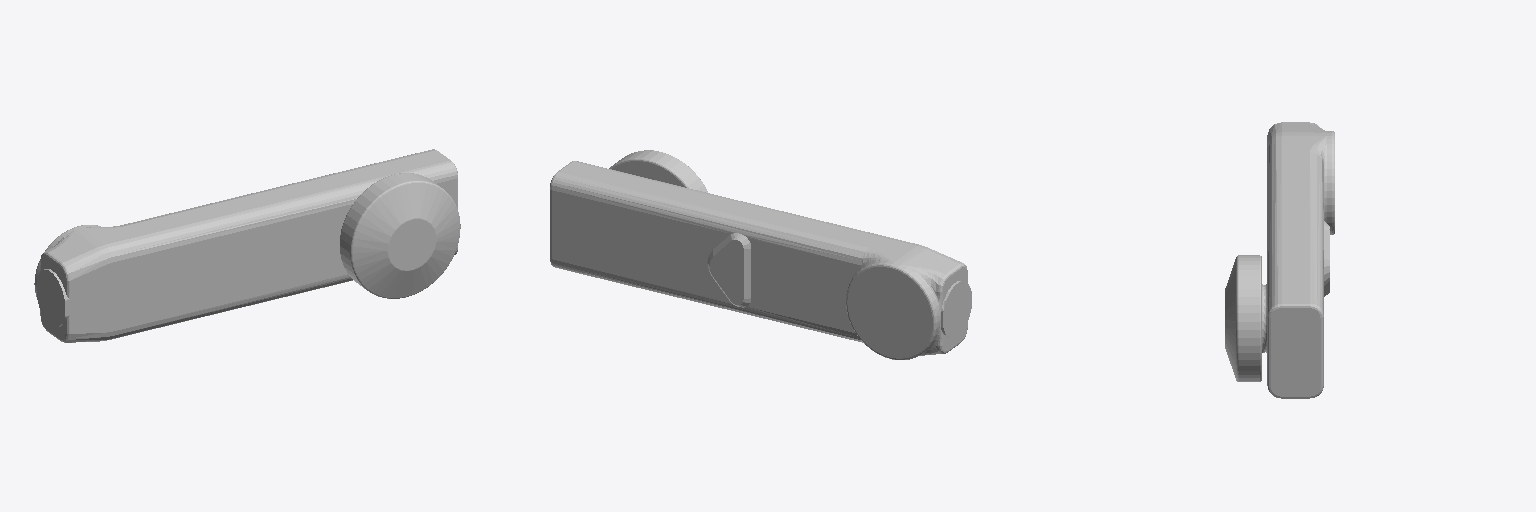
File: solo12_hip_fe_hl.obj
The picture shows the model from 3 angles: view 1: azimuth 30°, elevation 25°; view 2: azimuth 150°, elevation 25°; view 3: azimuth 270°, elevation 25°; orthographic projection.
Visible parts, largest first — view 1: solo12_hip_fe_hl; view 2: solo12_hip_fe_hl; view 3: solo12_hip_fe_hl.
Boxes of the visible parts, <box> form: solo12_hip_fe_hl: <box>34,149,460,342</box>; solo12_hip_fe_hl: <box>550,150,971,359</box>; solo12_hip_fe_hl: <box>1225,122,1334,398</box>.
Size of the model in its own units: 0.1614 by 0.045 by 0.0391.